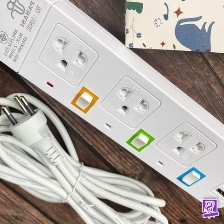three_eye_plug: (0, 0, 224, 211)
